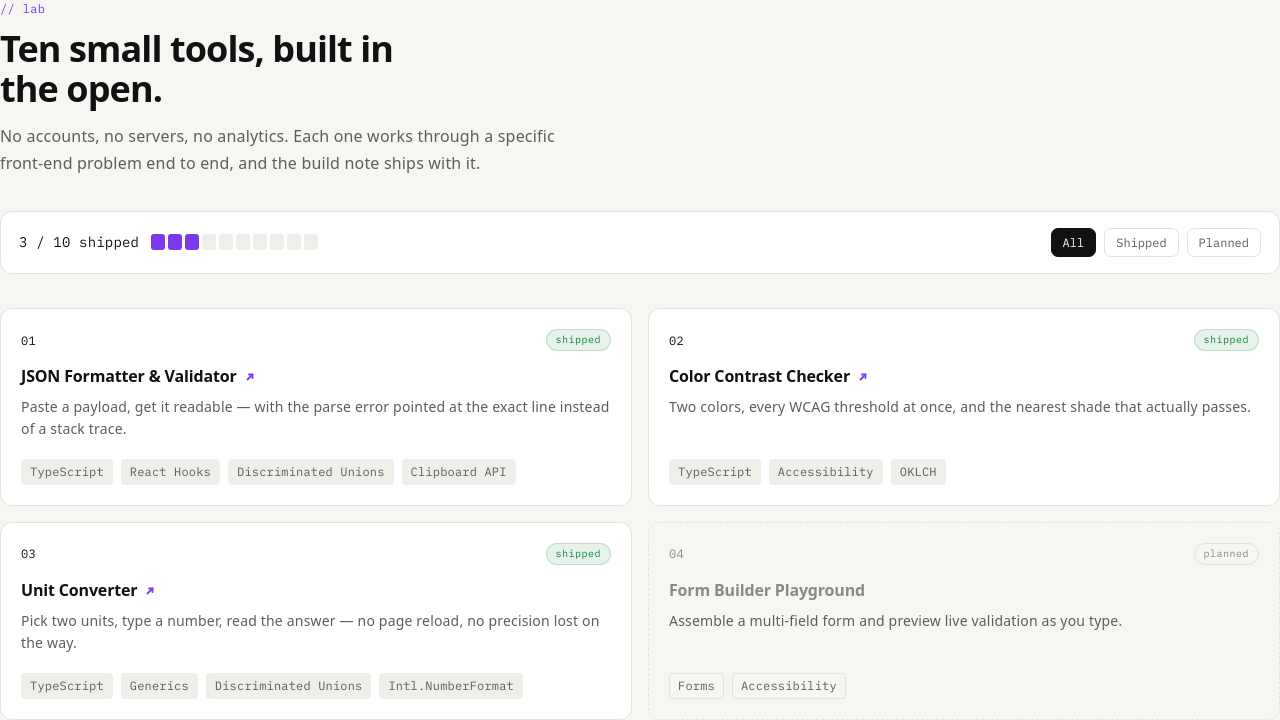
Scenario: LabHome › filters to only planned tools
Step 1. Click the tab "Planned" → click(1224, 242), box [1187,228,1261,257]
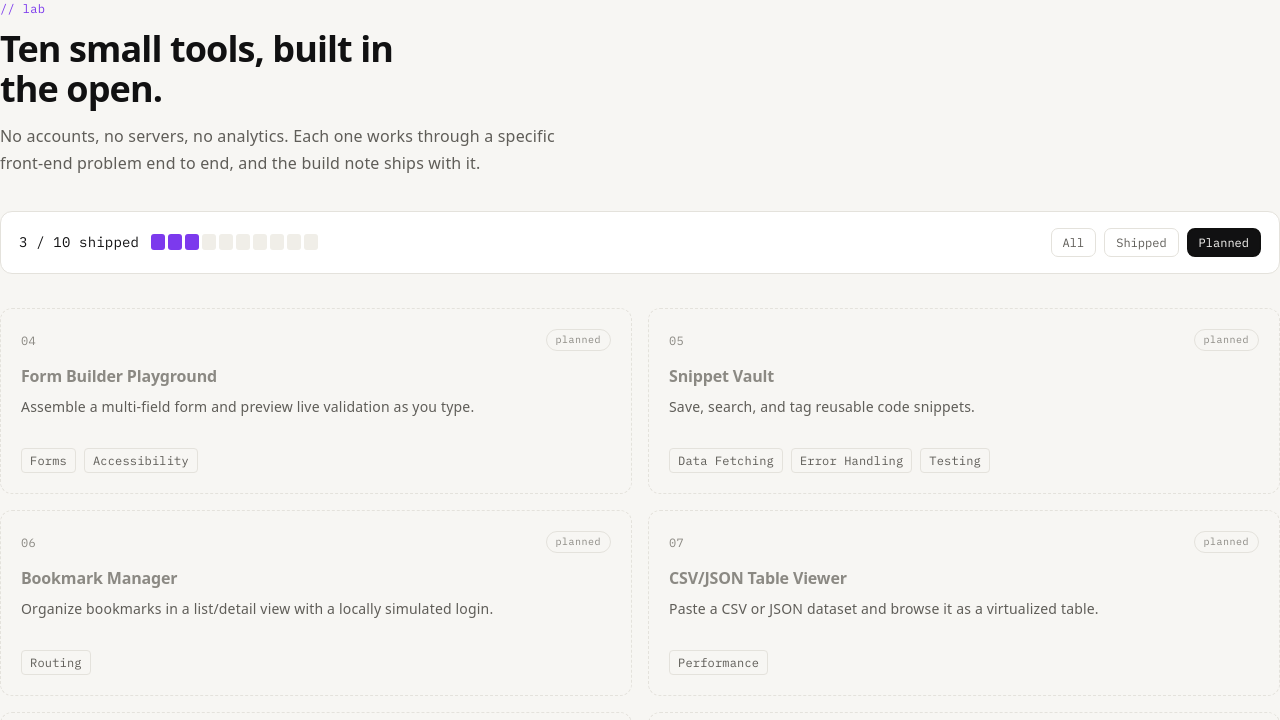
expect the text "Form Builder Playground" is shown: met, box [21,366,217,388]
expect the link "JSON Formatter & Validator" is gone: met
